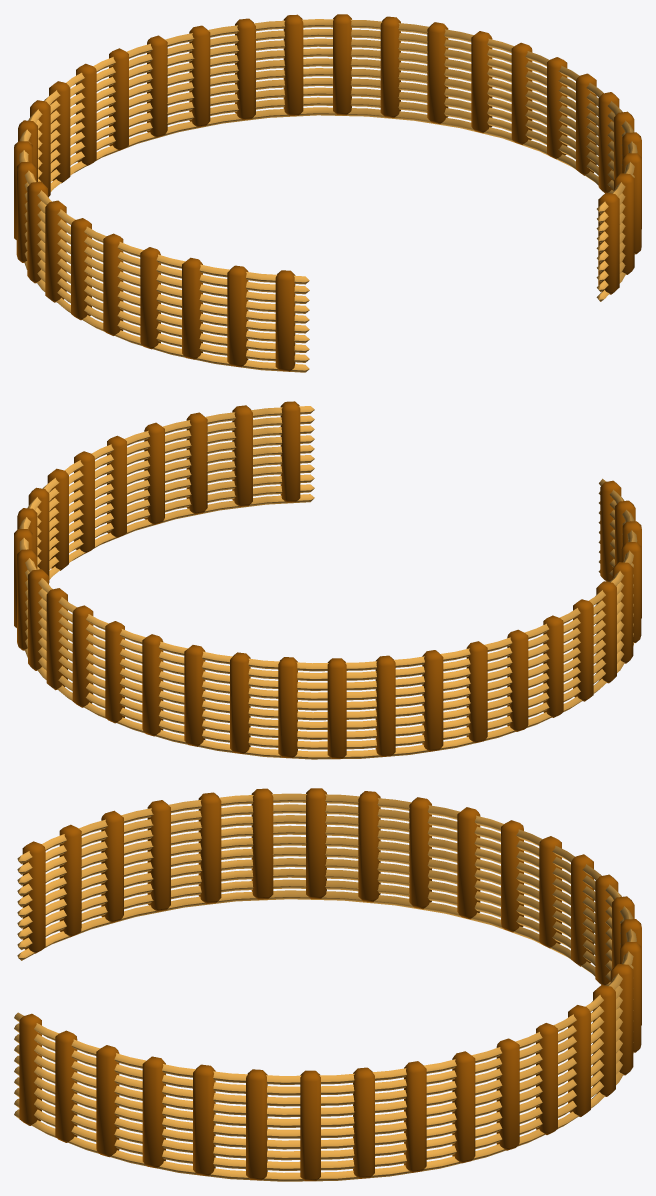
File: FunSmallLvl1.fbx
3 renders of one model, top to bottom at view 1: azimuth 30°, elevation 25°; view 2: azimuth 150°, elevation 25°; view 3: azimuth 270°, elevation 25°, orthographic. The views are drawn at different scales.
Parts seen in each view (by area): view 1: FenceS1; view 2: FenceS1; view 3: FenceS1.
Boxes of the visible parts, box(x1,y1,x2,y2) form: FenceS1: box(14, 14, 641, 372); FenceS1: box(14, 401, 641, 759); FenceS1: box(14, 788, 641, 1181).
Size of the model in its own units: 147 by 25.61 by 134.
